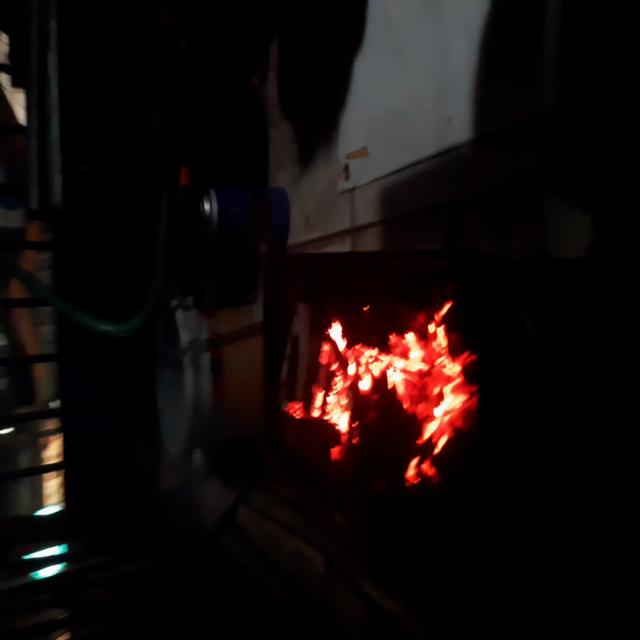Fire: (308, 290, 492, 458)
